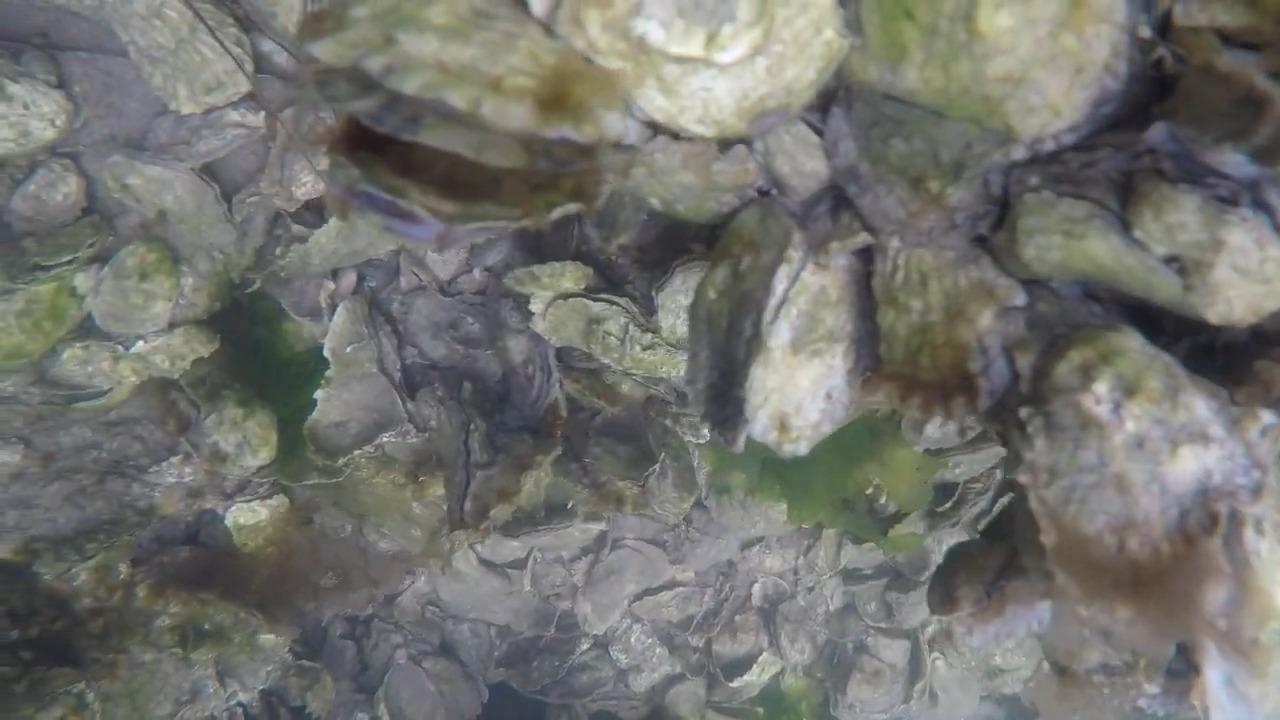Oyster: (1021, 329, 1264, 575), (846, 0, 1141, 146), (312, 2, 613, 134), (575, 3, 846, 138), (739, 242, 865, 455), (829, 89, 1016, 231), (867, 244, 1017, 408), (108, 5, 251, 117), (84, 240, 190, 340), (2, 275, 88, 367)
